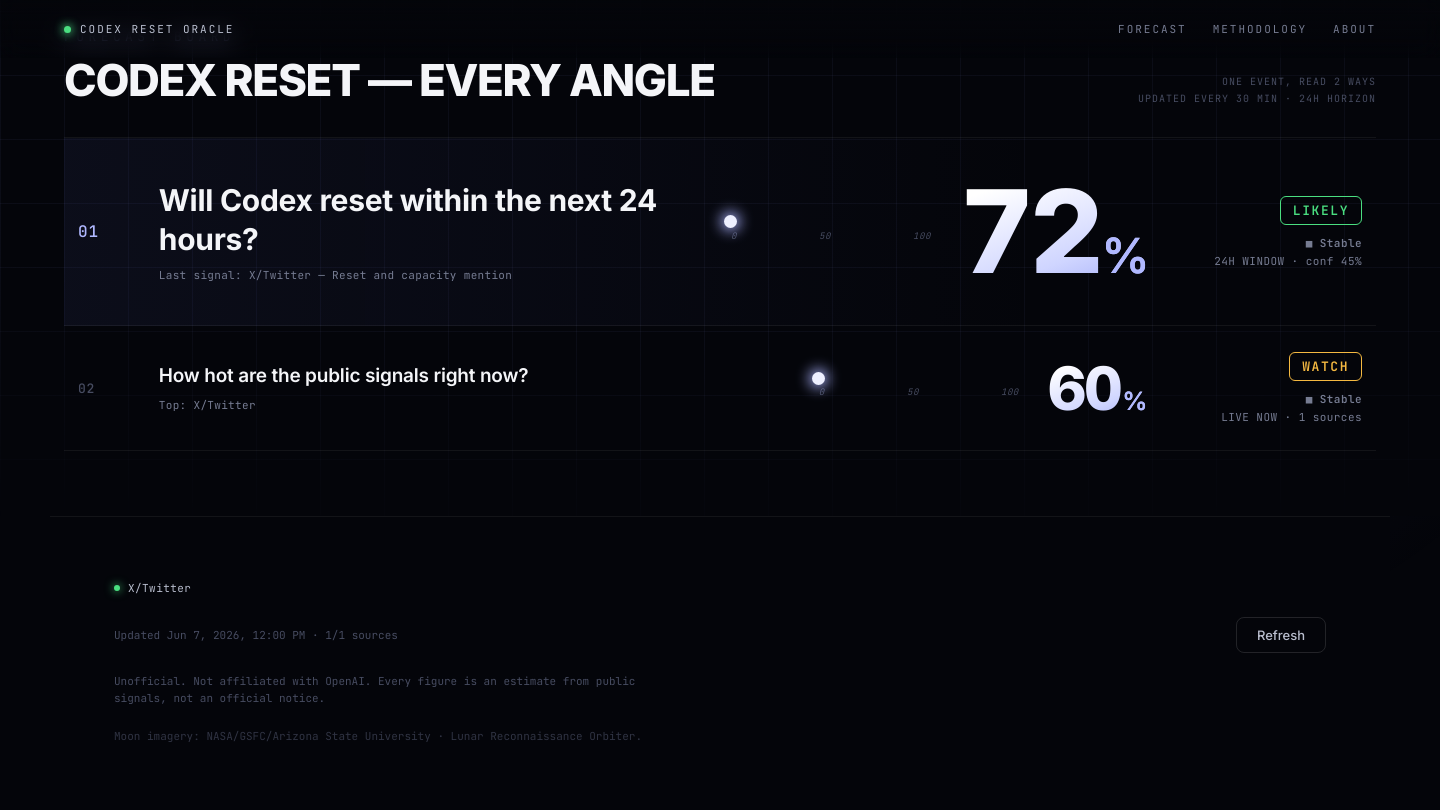
ForecastDashboard › shows a safe refresh error without rendering the thrown error
(page scrolled)
Click the button "Refresh" at [1281, 635], box [1236,617,1326,653]
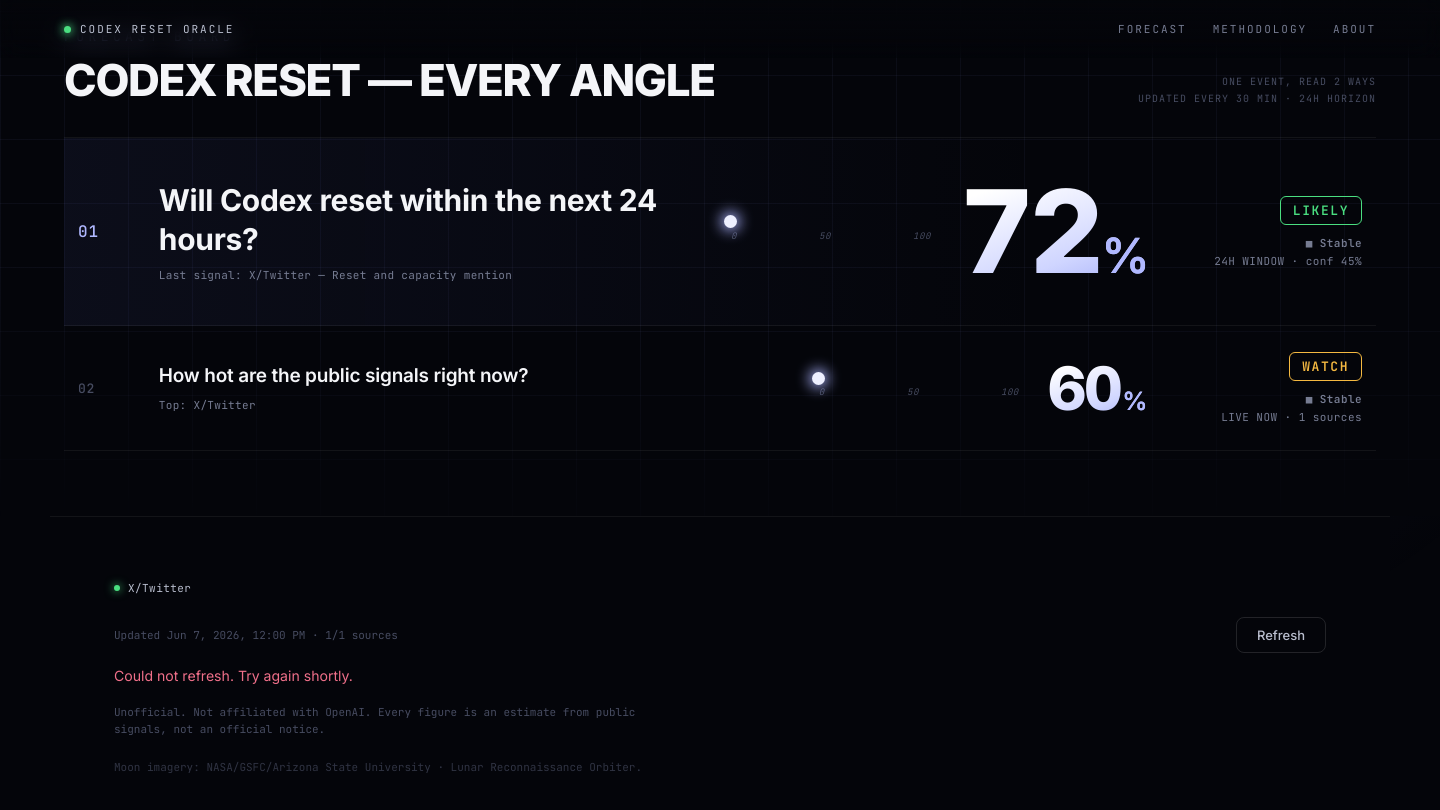
Result: the text "Could not refresh. Try again shortly." is shown at [114,667,353,684]
